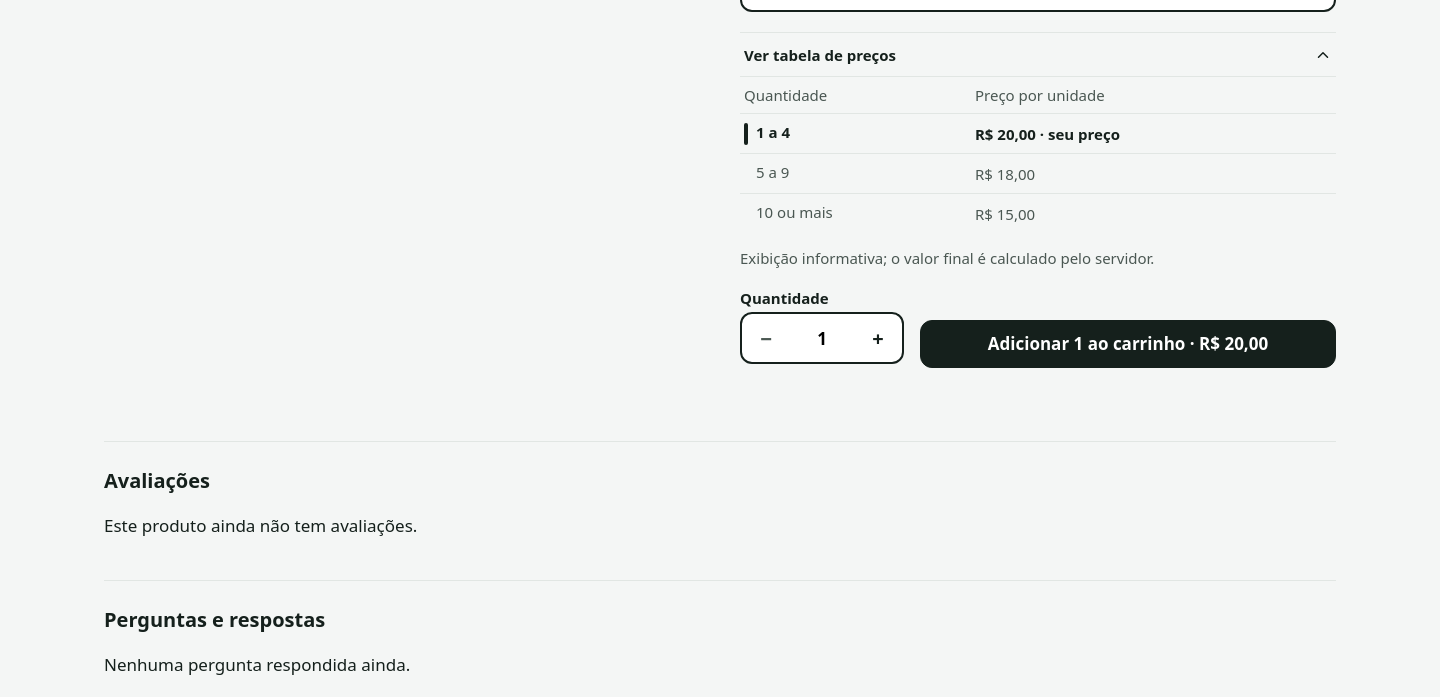
preço na página do produto › recalcula o total e marca a faixa ativa ao mudar a quantidade
The image size is (1440, 697).
(page scrolled)
Click the button named "Aumentar quantidade".
click(878, 338)  # box [854,314,902,362]
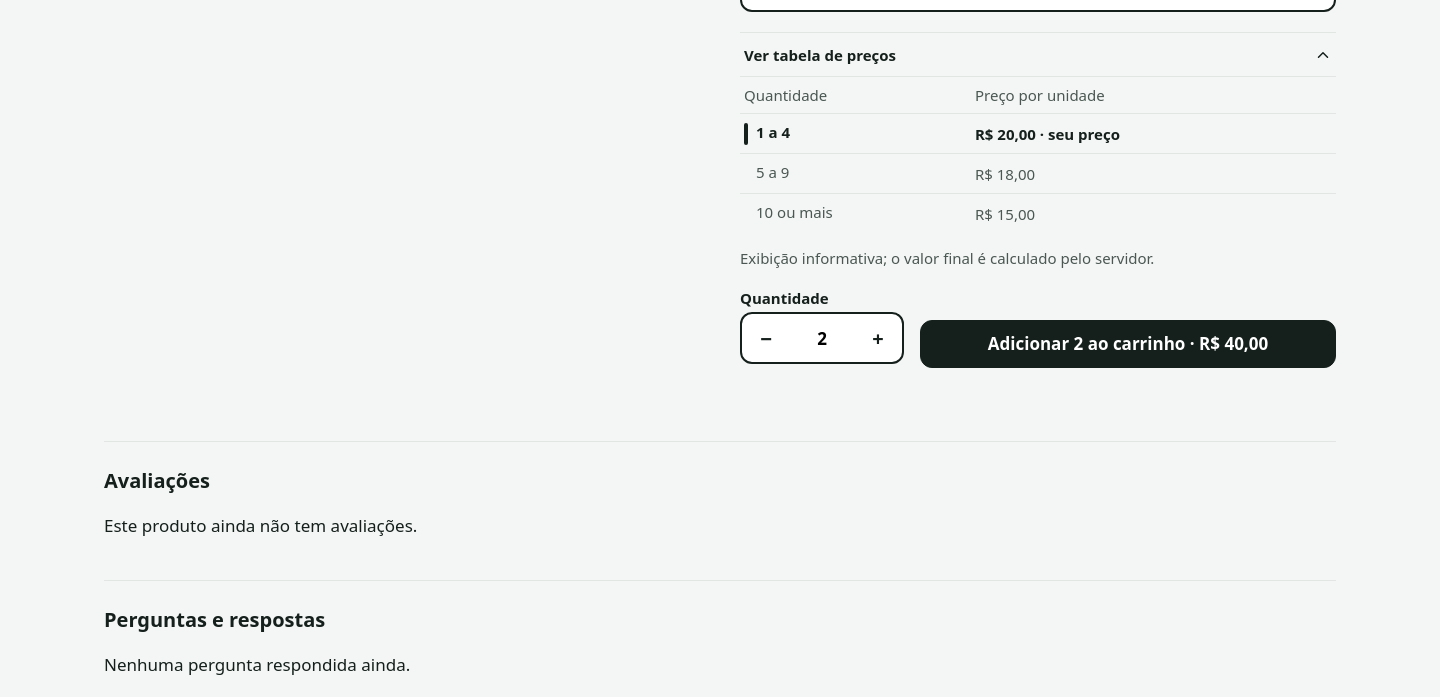
Click the button named "Aumentar quantidade".
click(878, 338)  # box [854,314,902,362]
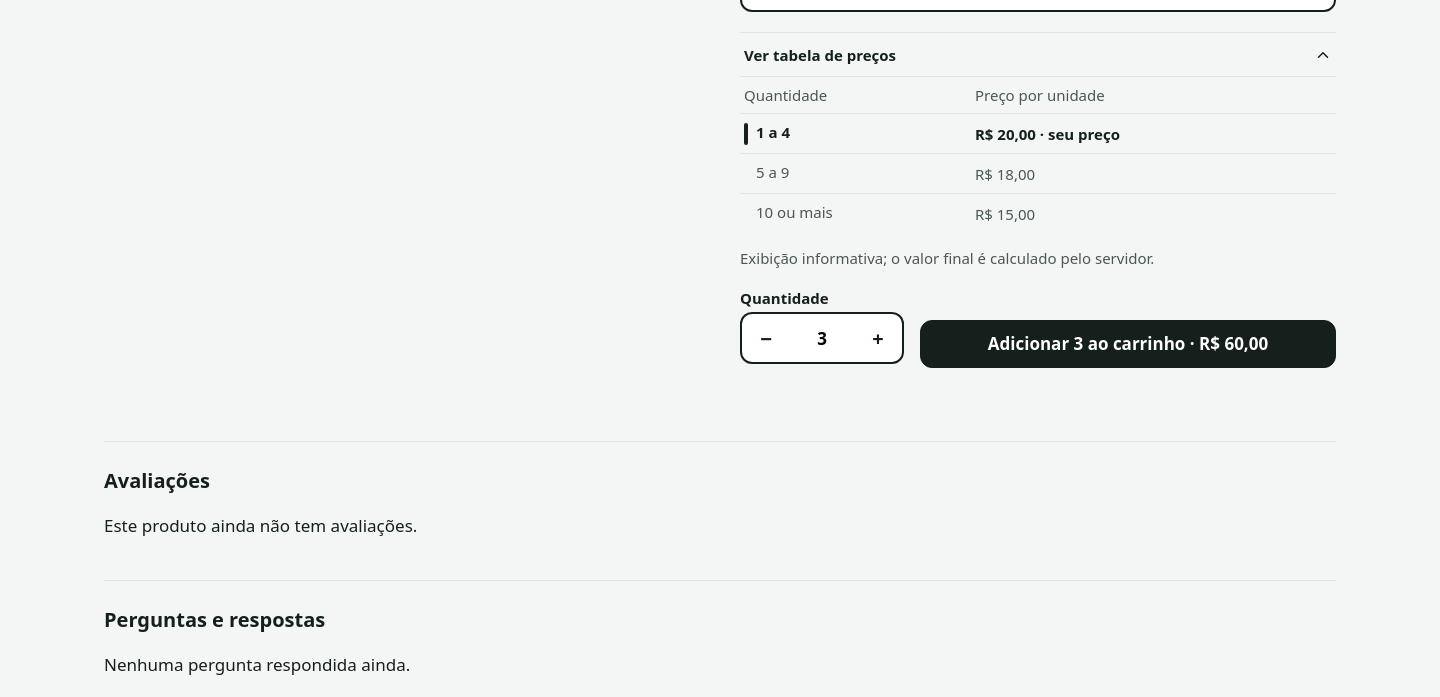
Click the button named "Aumentar quantidade".
click(878, 338)  # box [854,314,902,362]
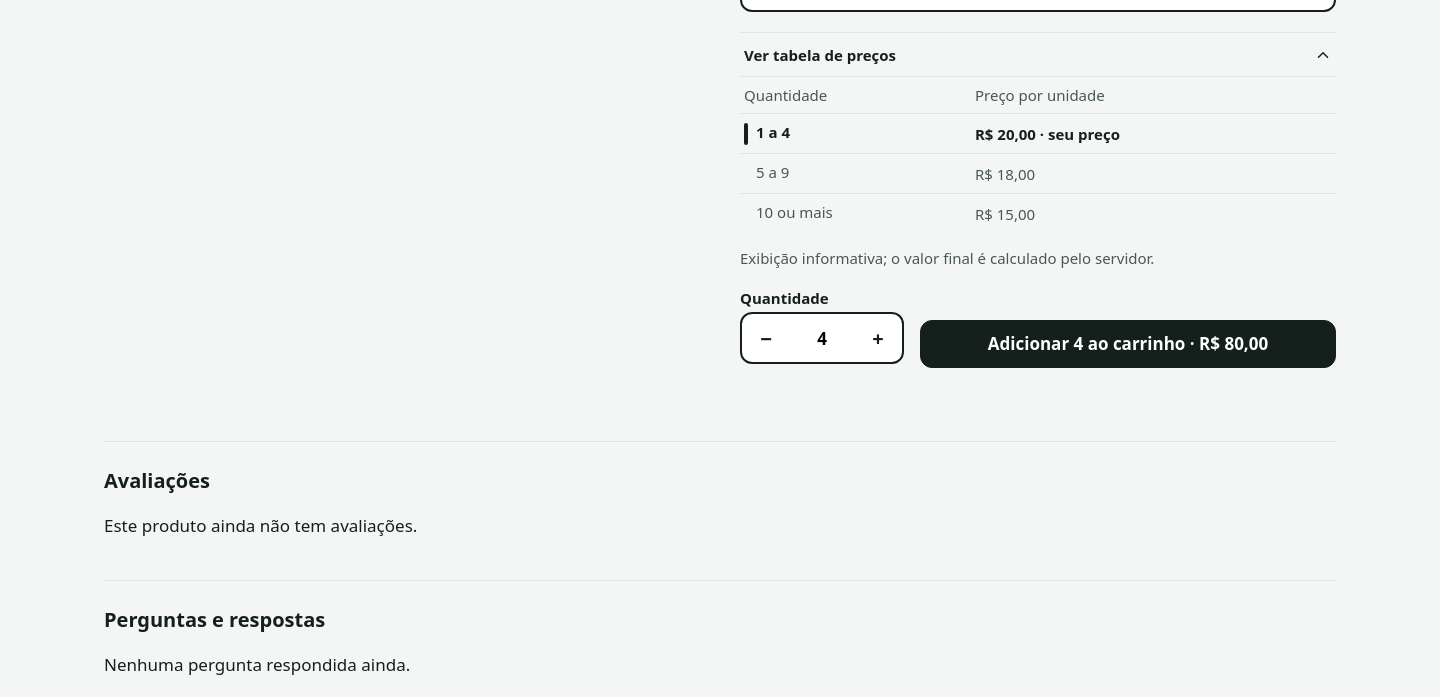
Click the button named "Aumentar quantidade".
click(878, 338)  # box [854,314,902,362]
(page scrolled)
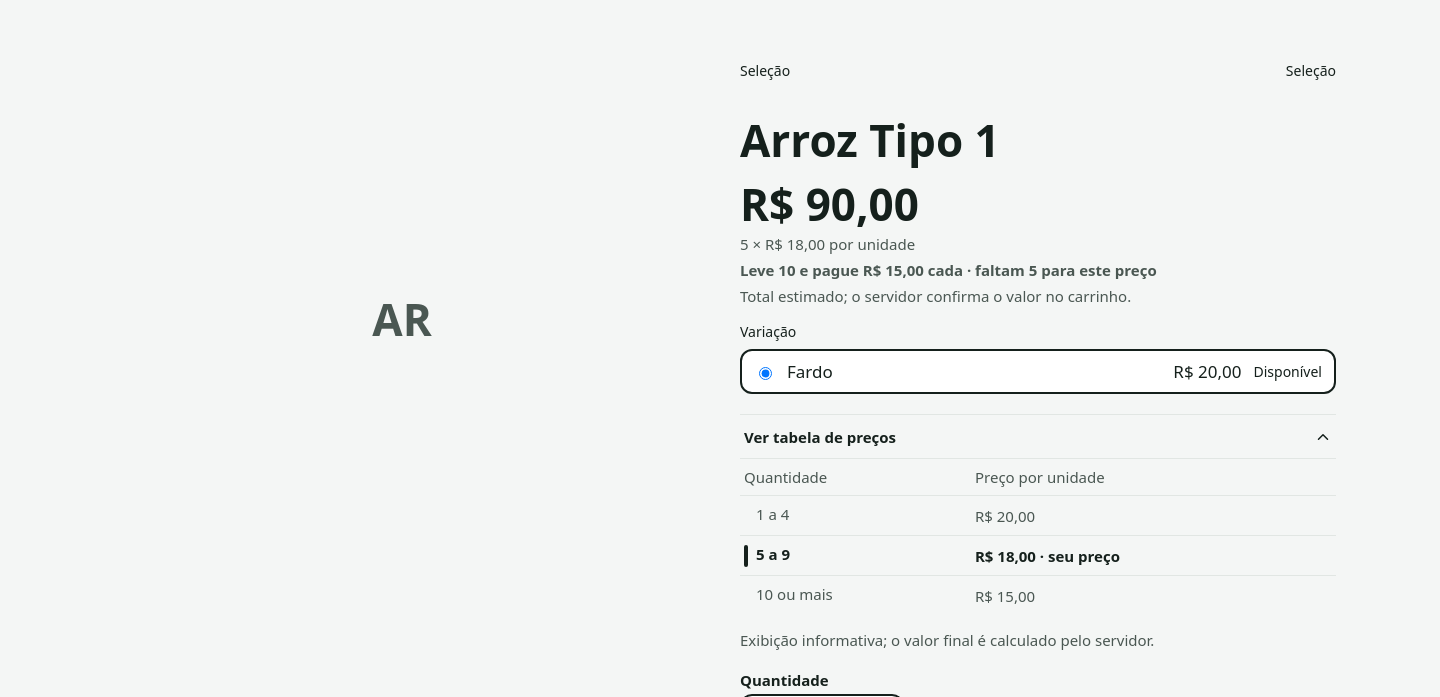
Check: the row "5 a 9 R$ 18,00 · seu preço" is shown, box [740,536,1336,576]
Check: the text "R$ 90,00" is shown, box [740,174,919,234]
Check: the text "Leve 10 e pague R$ 15,00 cada · faltam 5 para este preço" is shown, box [740,260,1157,280]
